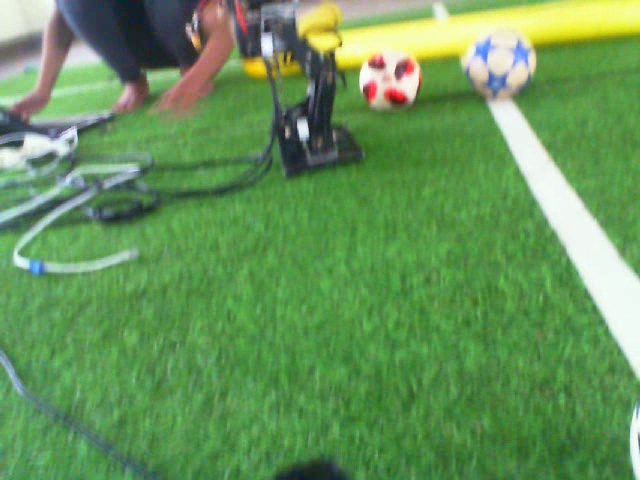ball: (459, 21, 540, 103), (358, 44, 425, 114)
